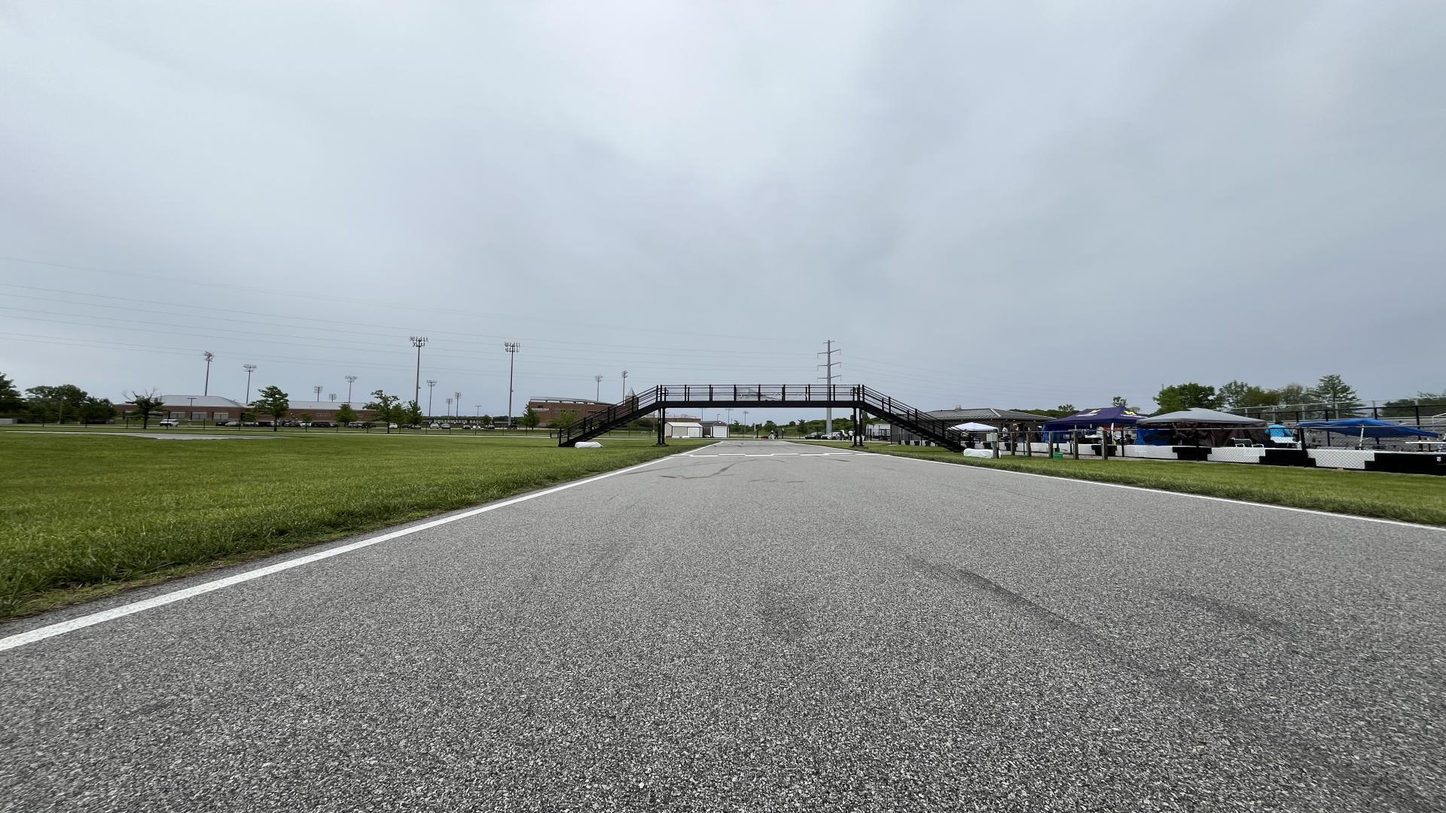white-line: (0, 458, 673, 651), (882, 455, 1445, 531), (782, 441, 868, 453), (682, 442, 722, 454)
